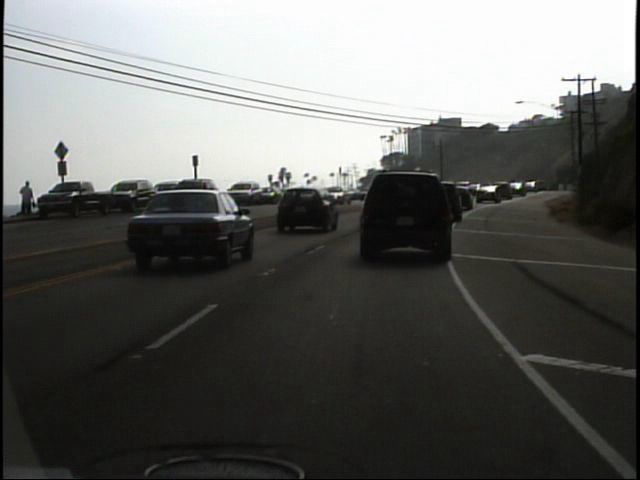person: (20, 177, 41, 220)
